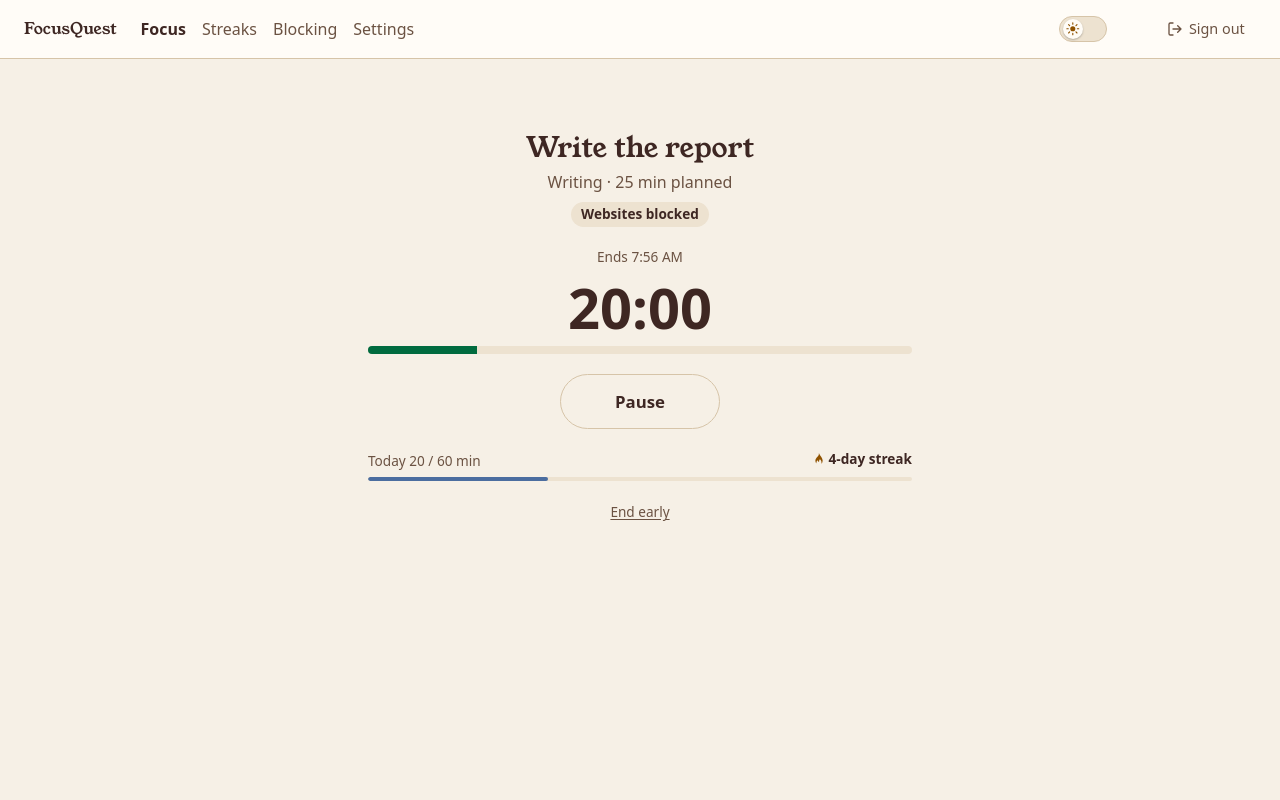
Scenario: DashboardView › says how much of a session ended early still counted toward today
Click the button "End early".
click(640, 513)  # box [609,502,671,524]
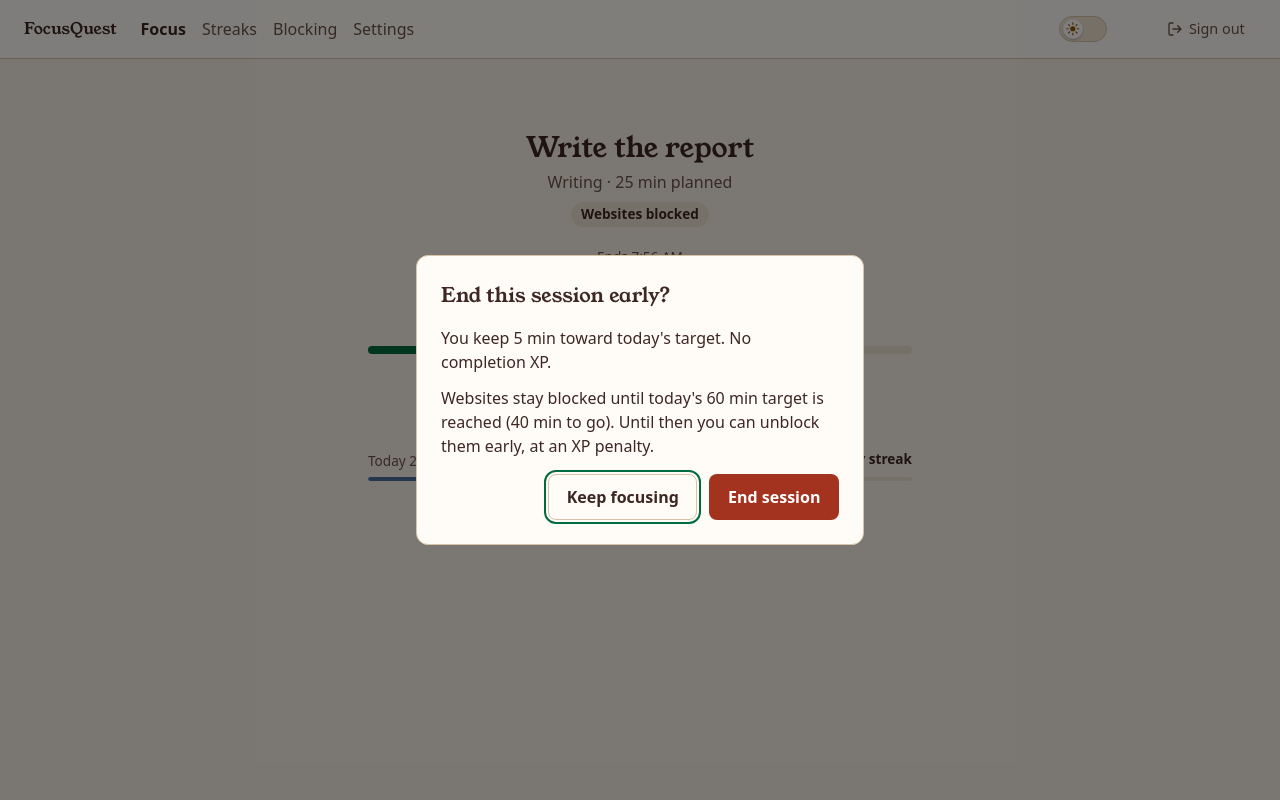
Click the button "End session".
click(774, 497)  # box [709,474,839,520]
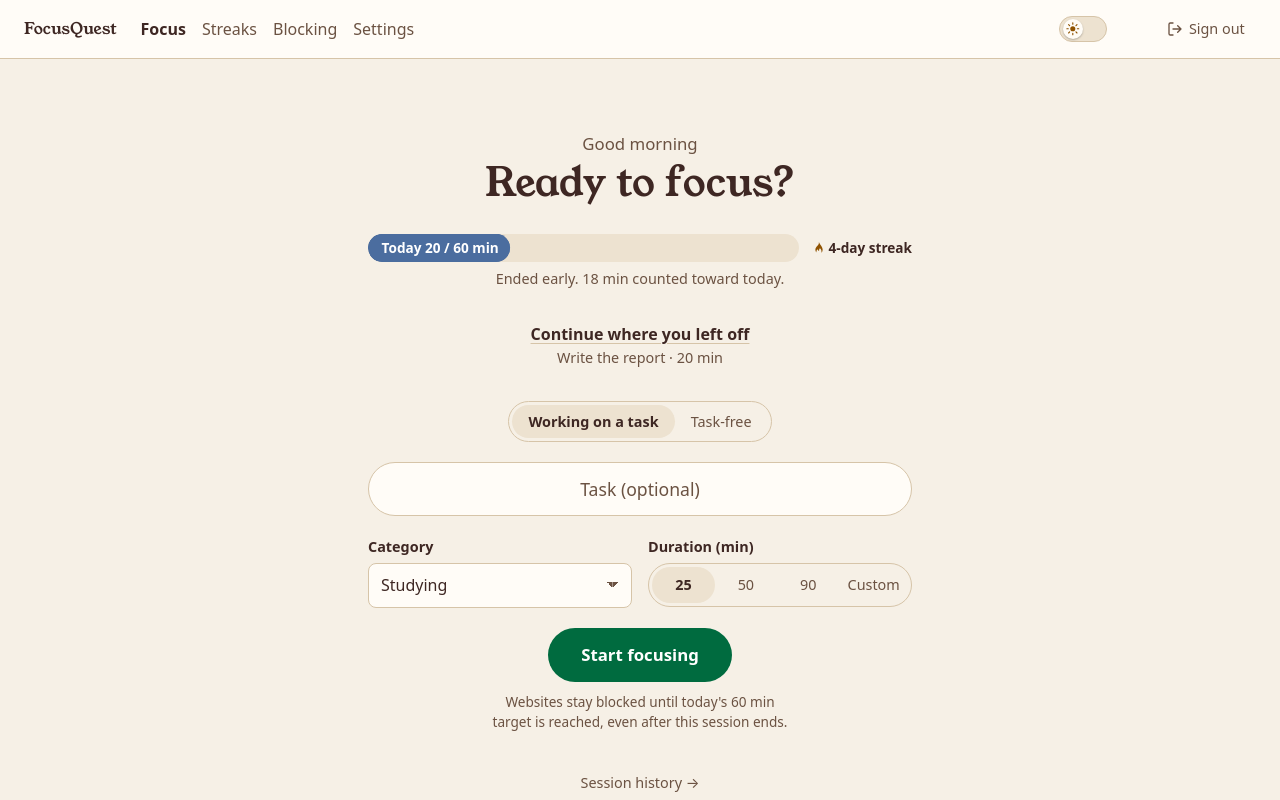
Now the text "Ended early. 18 min counted toward today." is shown, box [496,269,784,288]
